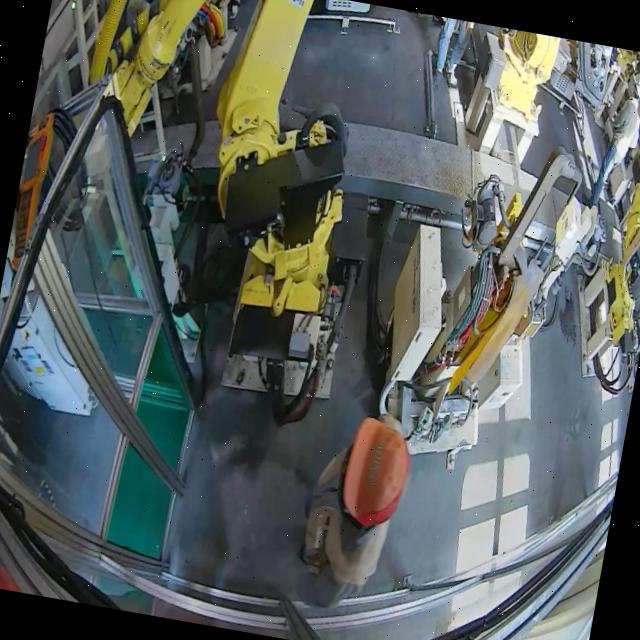Person: (294, 407, 416, 594), (587, 69, 640, 214), (425, 16, 478, 92)
